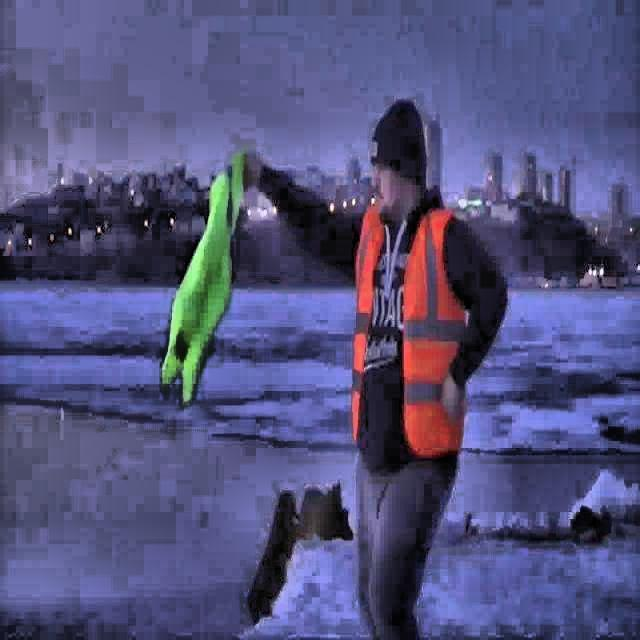safety_jacket: (349, 202, 468, 458), (158, 146, 248, 408)
